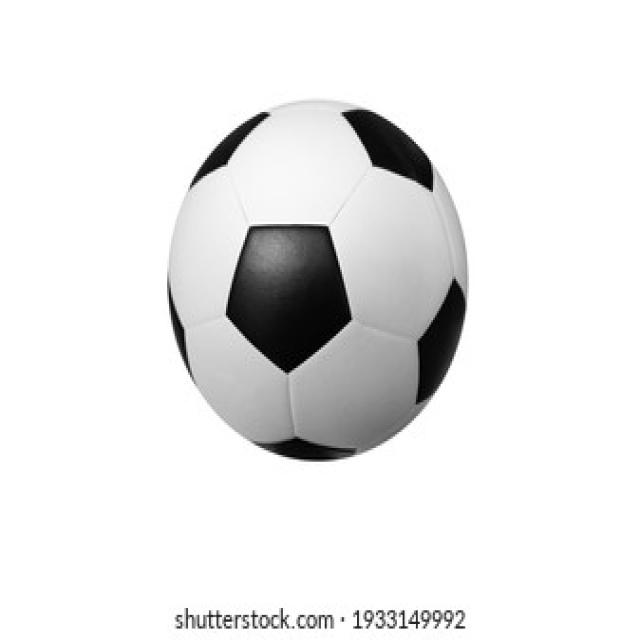soccer ball: (163, 99, 469, 466)
